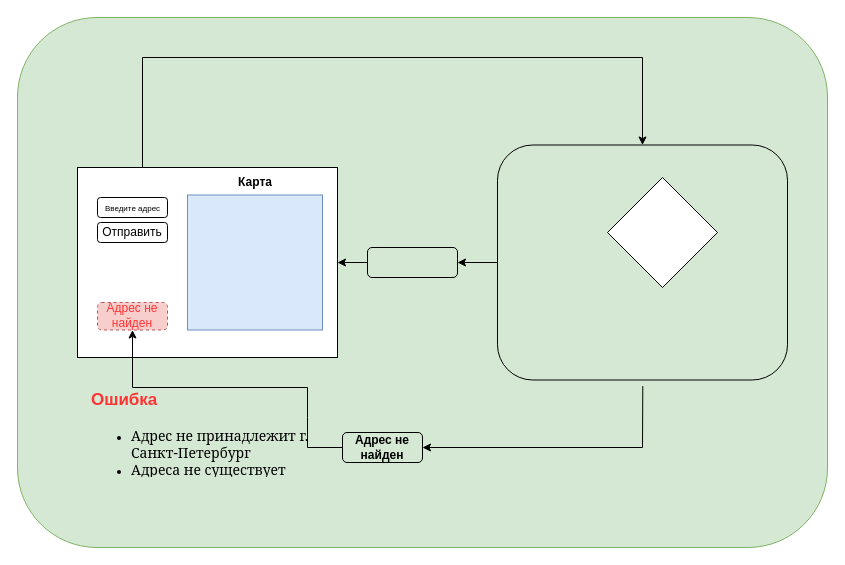
The diagram is 845 pixels wide and 565 high, and some of its shapes have lost their labels. Each missing label, with the box of its shape:
Адрес найден: (366, 246, 458, 278)
Базовое решение: (606, 176, 718, 288)
